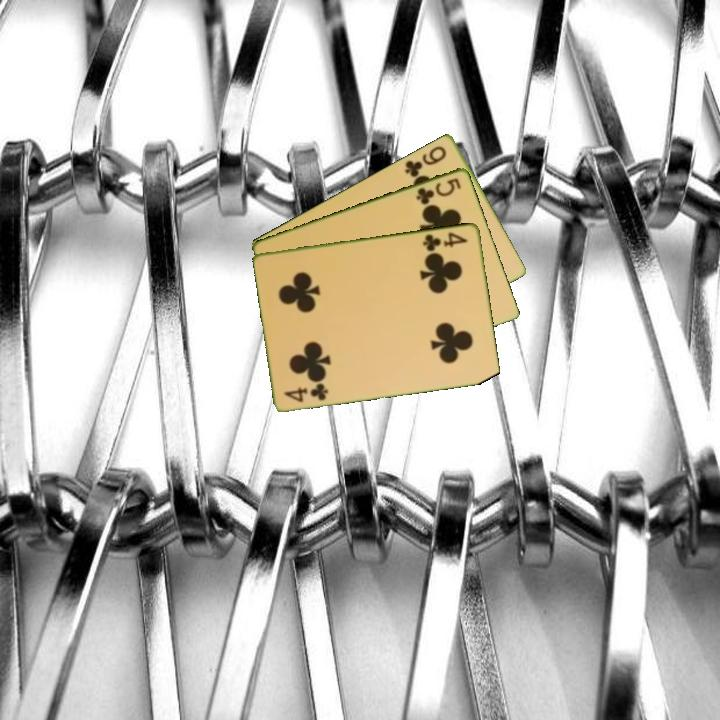4c: (419, 228, 471, 254), (281, 380, 331, 405)
5c: (413, 174, 464, 207)
9c: (401, 142, 449, 180)
